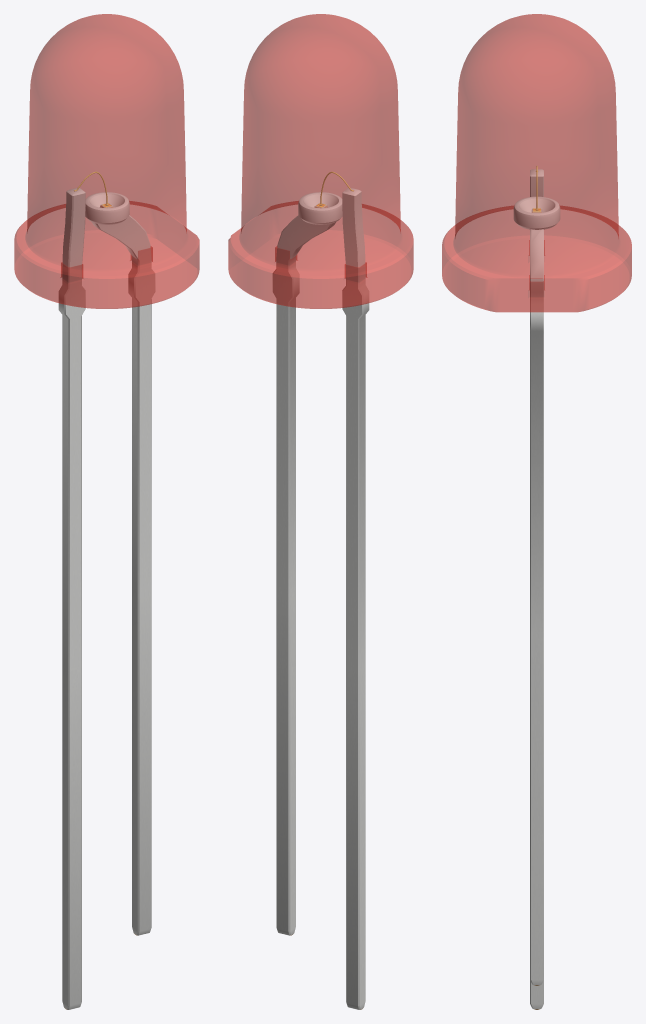
Rendered from LED_5mm_T134_Rojo_y_Chip_v2.glb.
3 renders of one model, left to right at view 1: azimuth 30°, elevation 25°; view 2: azimuth 150°, elevation 25°; view 3: azimuth 270°, elevation 25°, orthographic. The views are drawn at different scales.
Parts seen in each view (by area): view 1: 05_Capsula_Epoxi_T134, 02_Terminal_Anodo_Poste, 01_Terminal_Catodo_Yunque; view 2: 05_Capsula_Epoxi_T134, 02_Terminal_Anodo_Poste, 01_Terminal_Catodo_Yunque; view 3: 05_Capsula_Epoxi_T134, 01_Terminal_Catodo_Yunque, 02_Terminal_Anodo_Poste.
Boxes of the visible parts, x1=… form: 05_Capsula_Epoxi_T134: x1=14, y1=14, x2=199, y2=308; 02_Terminal_Anodo_Poste: x1=58, y1=188, x2=85, y2=1009; 01_Terminal_Catodo_Yunque: x1=85, y1=192, x2=154, y2=935; 05_Capsula_Epoxi_T134: x1=228, y1=14, x2=413, y2=308; 02_Terminal_Anodo_Poste: x1=342, y1=188, x2=369, y2=1009; 01_Terminal_Catodo_Yunque: x1=273, y1=192, x2=342, y2=935; 05_Capsula_Epoxi_T134: x1=442, y1=14, x2=631, y2=312; 01_Terminal_Catodo_Yunque: x1=513, y1=196, x2=560, y2=985; 02_Terminal_Anodo_Poste: x1=530, y1=169, x2=543, y2=1009.
Bounding box in the file's own units: 5.5 × 34.1 × 5.85.
Materials: 22 (21 with a texture image).
